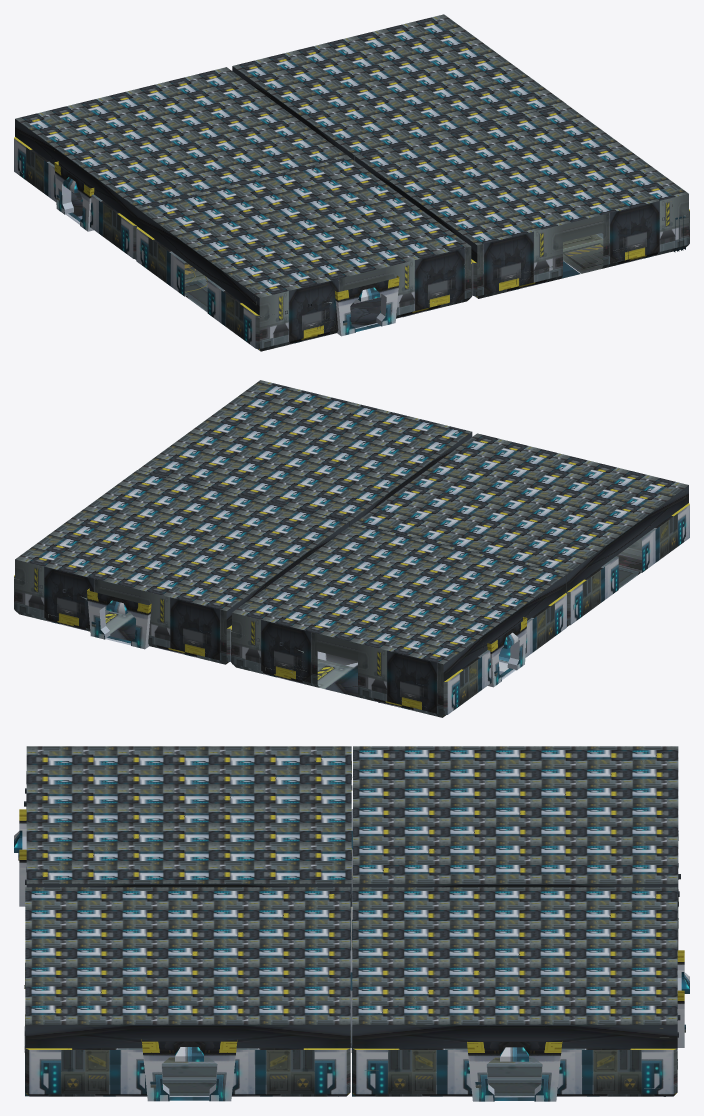
Rendered from Combined_Mesh_root_scene__9_f65a131e__ZombiesII_laboratory_08_d_36b73b52_c1f257_part002.obj.
3 renders of one model, top to bottom at view 1: azimuth 30°, elevation 25°; view 2: azimuth 150°, elevation 25°; view 3: azimuth 270°, elevation 25°, orthographic. The views are drawn at different scales.
Size of the model in its own units: 83.99 by 10.21 by 83.14.
233 materials, 233 textured.
